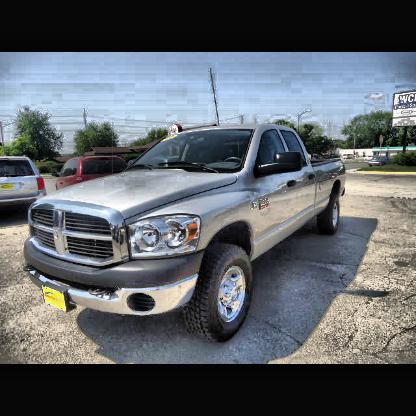Dodge Ram Pickup 3500 Quad Cab 2009: (24, 126, 348, 336)
